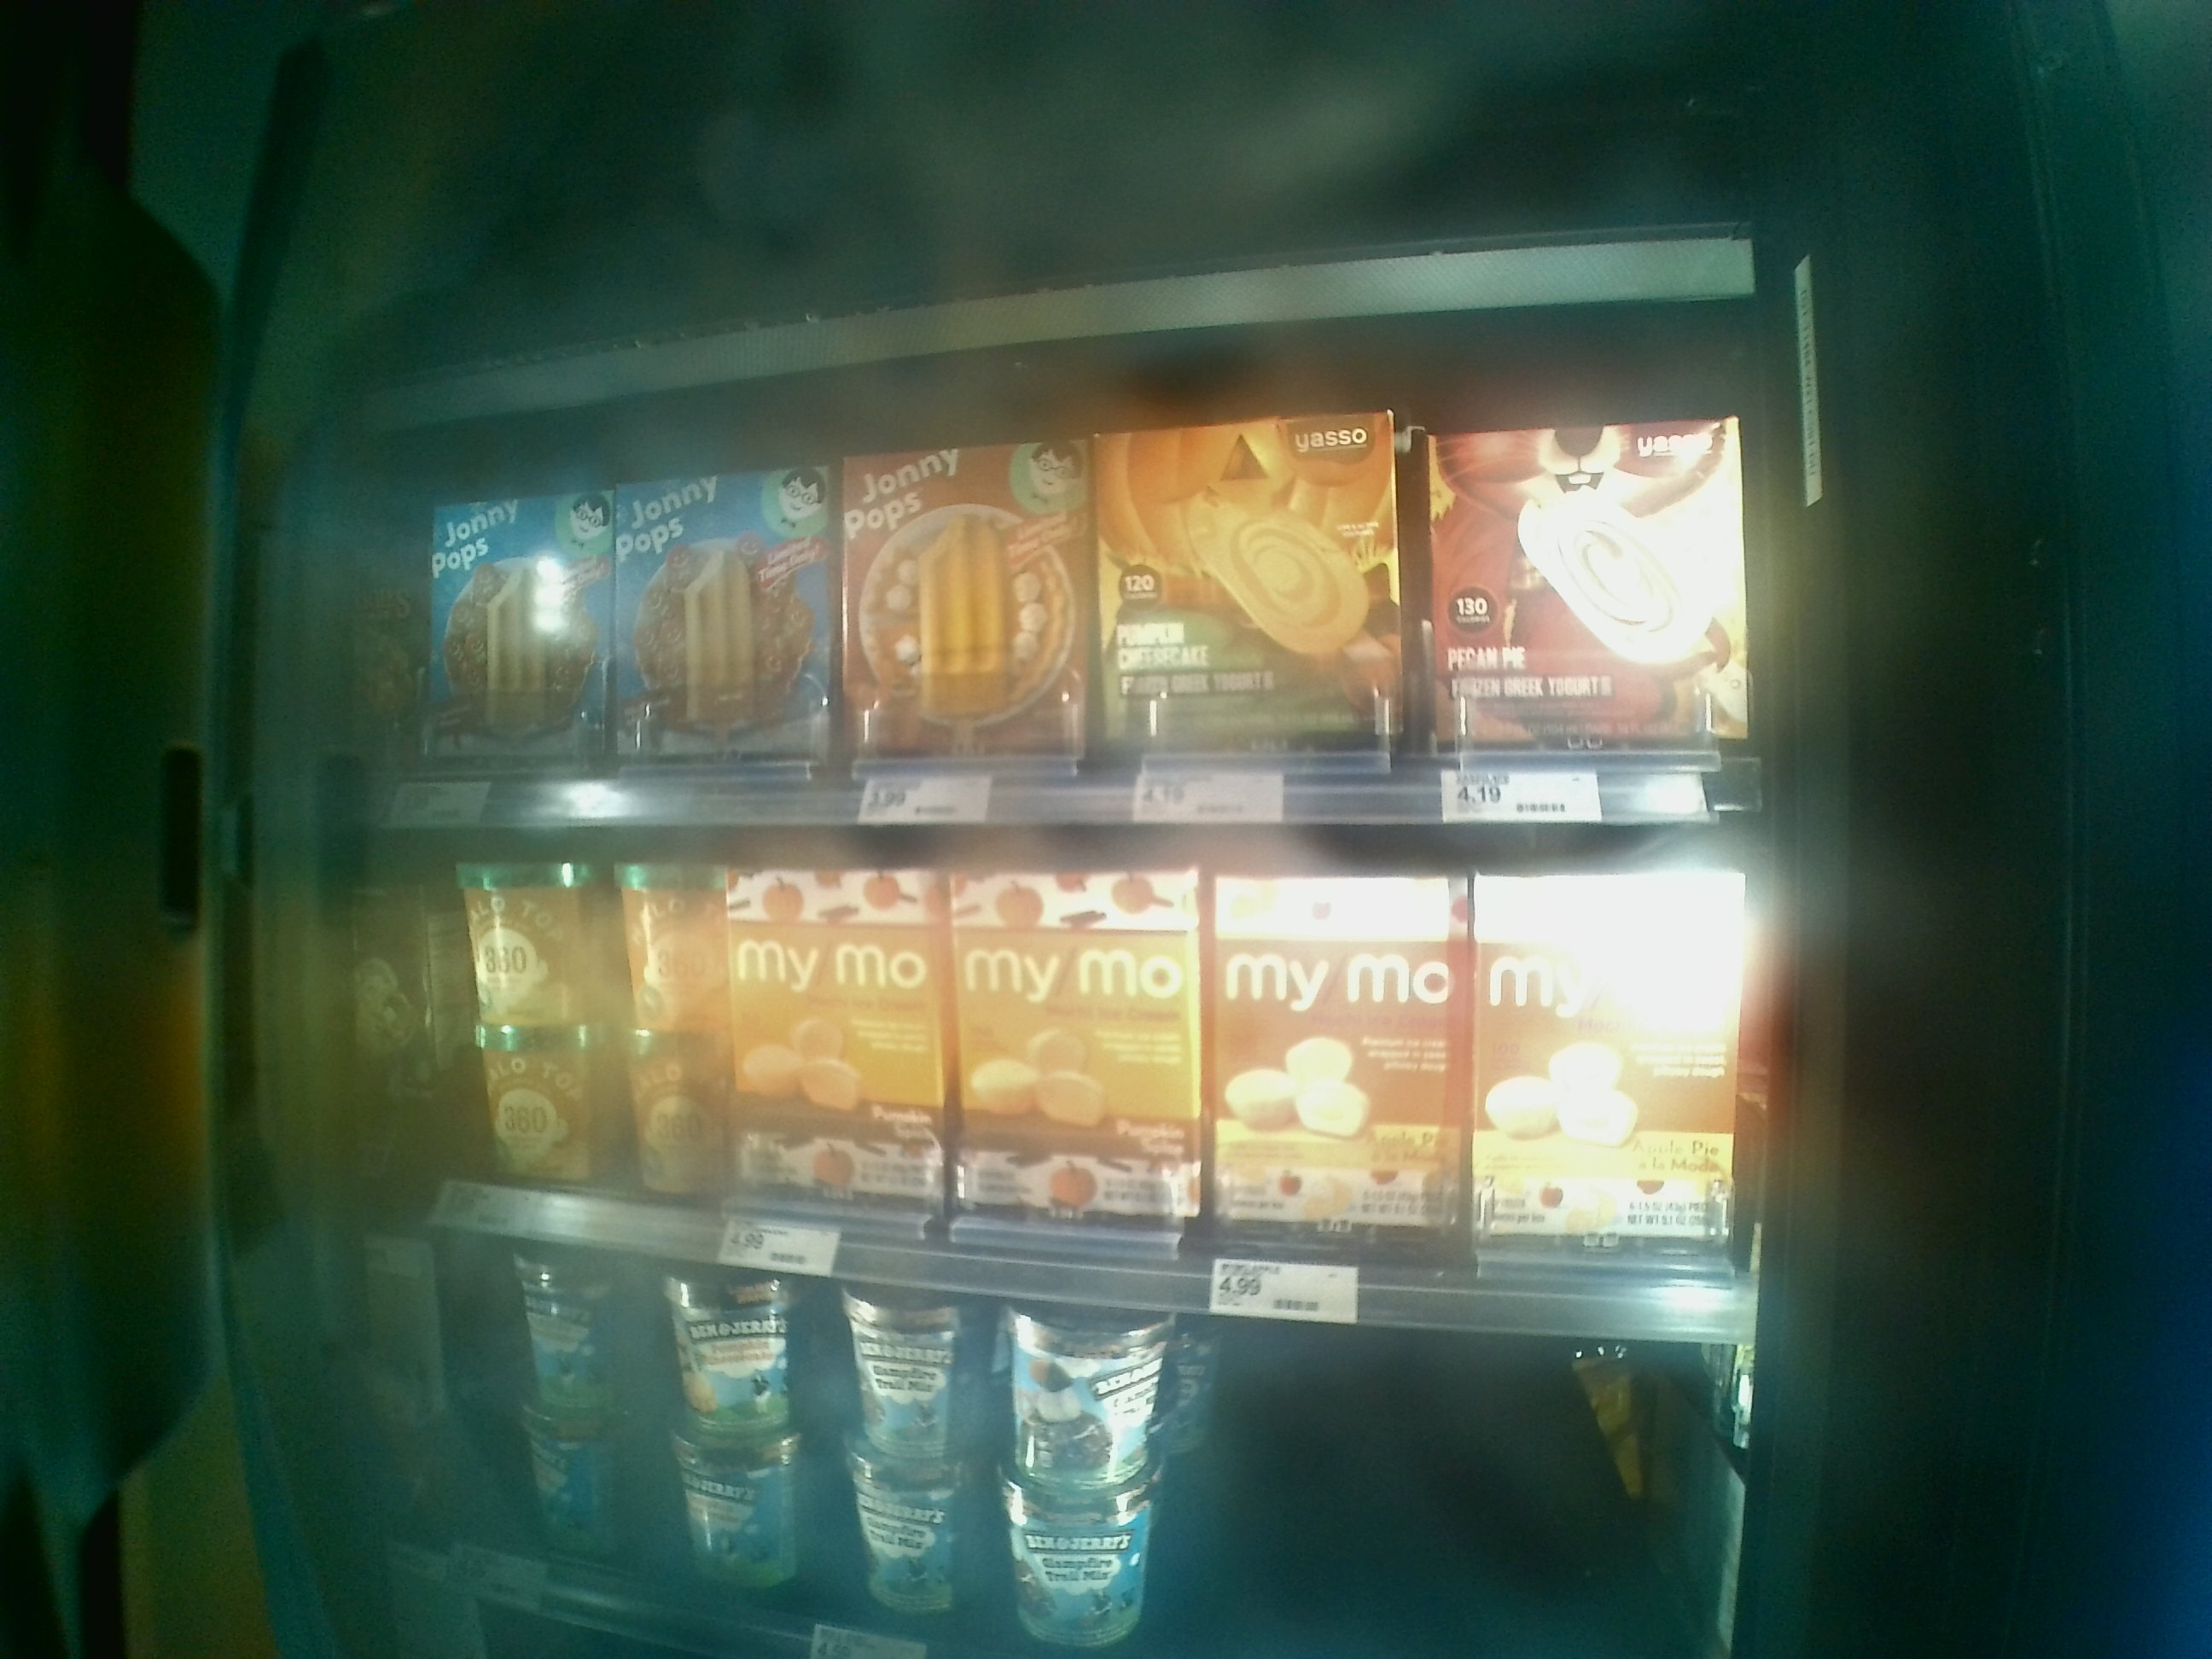shelf: (361, 816, 1764, 1342), (374, 380, 1768, 812)
